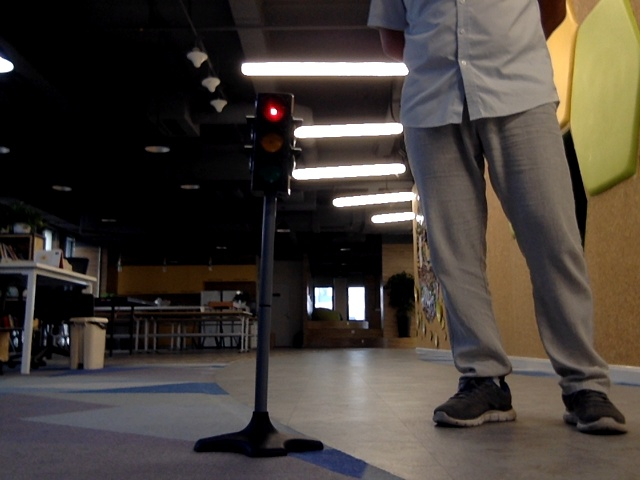red: (255, 94, 285, 191)
